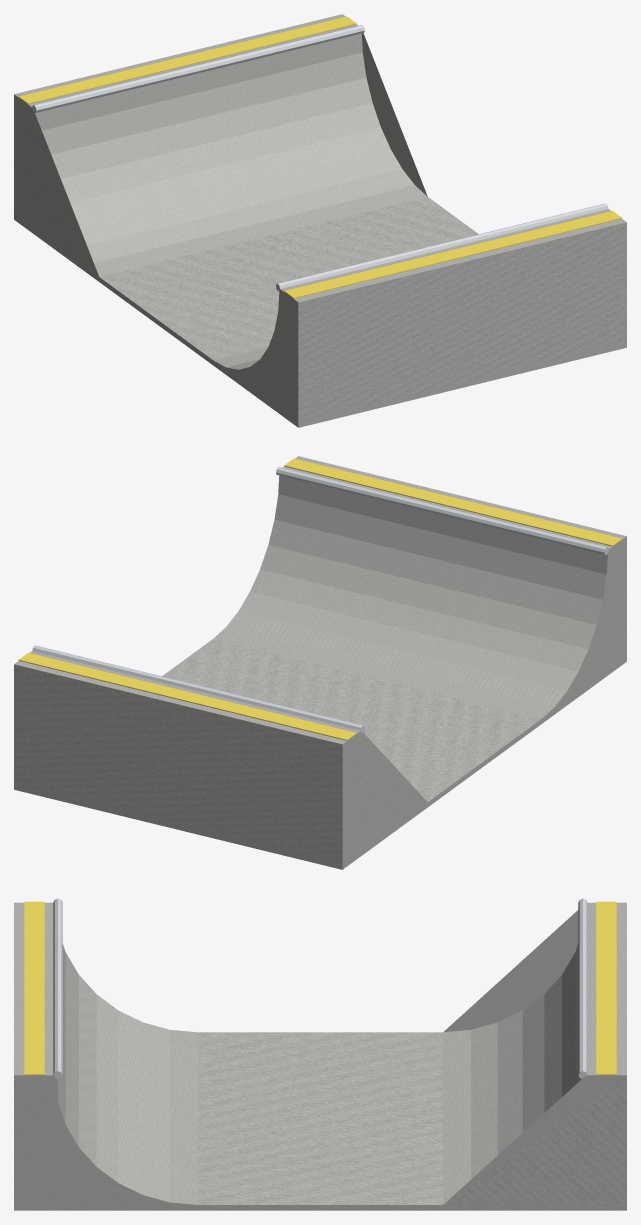
File: skate-park-and-street-sports-half-pipe-section-fd24ddc9__33514.glb
3 views of the same model, one above another, from view 1: azimuth 30°, elevation 25°; view 2: azimuth 150°, elevation 25°; view 3: azimuth 270°, elevation 25° (orthographic). The views are drawn at different scales.
Parts seen in each view (by area): view 1: half-pipe-section-concrete, half-pipe-section-canary, half-pipe-section-steel; view 2: half-pipe-section-concrete, half-pipe-section-canary, half-pipe-section-steel; view 3: half-pipe-section-concrete, half-pipe-section-canary, half-pipe-section-steel.
Part boxes in pixels (box(x1,y1,x2,y2)): half-pipe-section-concrete: box(14, 14, 626, 427); half-pipe-section-canary: box(18, 16, 622, 298); half-pipe-section-steel: box(32, 25, 608, 291); half-pipe-section-concrete: box(14, 456, 626, 869); half-pipe-section-canary: box(18, 458, 622, 740); half-pipe-section-steel: box(32, 467, 608, 733); half-pipe-section-concrete: box(14, 902, 626, 1210); half-pipe-section-canary: box(24, 901, 616, 1075); half-pipe-section-steel: box(53, 898, 587, 1079).
Bounding box in the file's own units: 4 × 1.5 × 6.
Materials: 3 (1 with a texture image).
